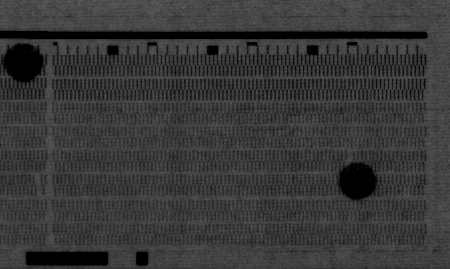Broken hole: (32, 174, 43, 196), (345, 149, 356, 169)
